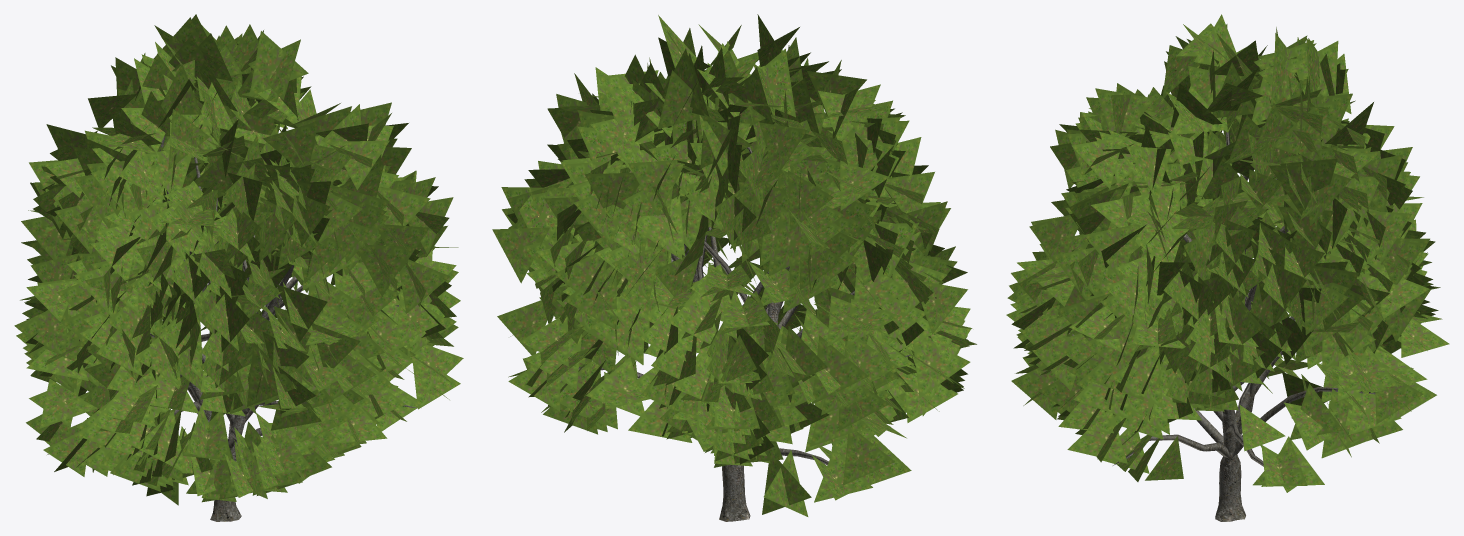
File: Ulmus_Minor_Spring_Adult.glb
3 renders of one model, left to right at view 1: azimuth 30°, elevation 25°; view 2: azimuth 150°, elevation 25°; view 3: azimuth 270°, elevation 25°, orthographic. The views are drawn at different scales.
Parts seen in each view (by area): view 1: Ulmus_Minor_Spring_Adult__LOD3; view 2: Ulmus_Minor_Spring_Adult__LOD3; view 3: Ulmus_Minor_Spring_Adult__LOD3.
Part boxes in pixels (left/top/right/bottom): Ulmus_Minor_Spring_Adult__LOD3: left=14, top=14, right=463, bottom=521; Ulmus_Minor_Spring_Adult__LOD3: left=492, top=14, right=976, bottom=521; Ulmus_Minor_Spring_Adult__LOD3: left=1006, top=14, right=1449, bottom=521.
Size of the model in its own units: 20.83 by 24.45 by 20.37.
Materials: 2 (2 with a texture image).
